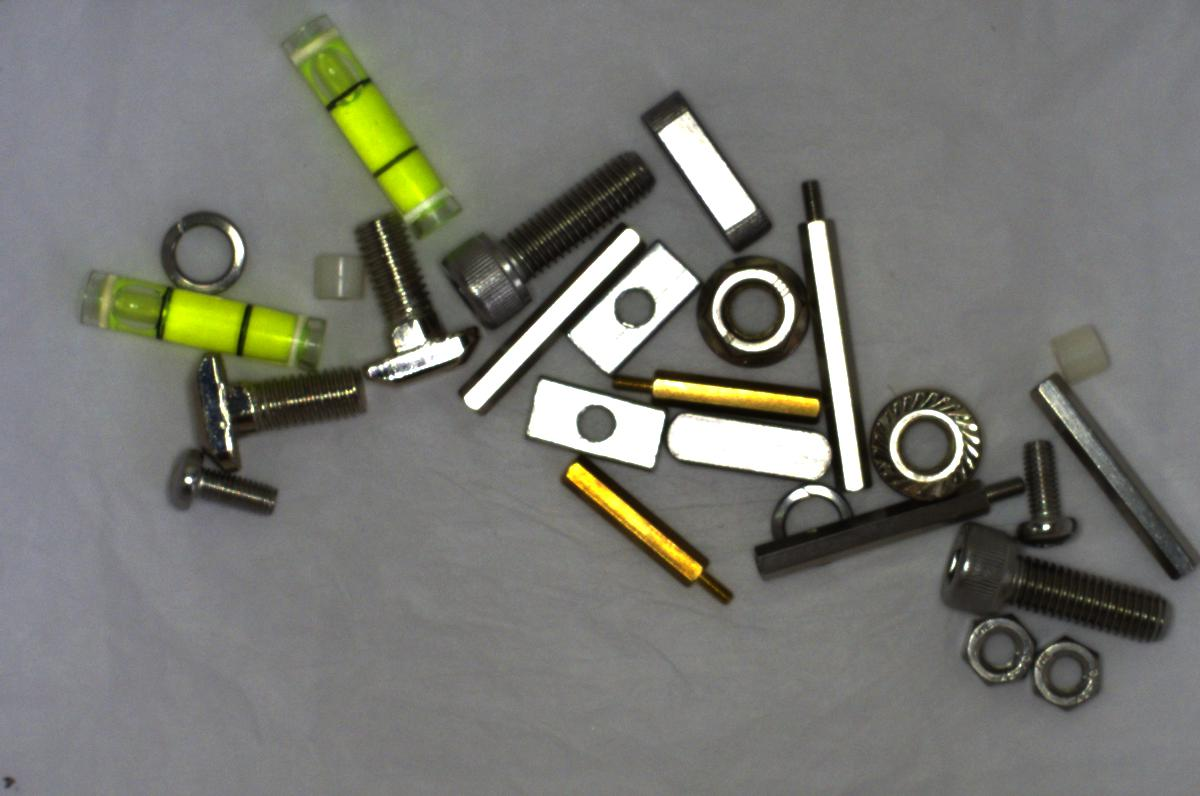Double hexagonal column: (444, 221, 647, 421), (1028, 369, 1197, 586)
Flange nut: (866, 374, 994, 503), (688, 254, 811, 374)
Hexagon nut: (1024, 618, 1129, 721), (942, 613, 1042, 698)
Hexagon pillar: (552, 458, 738, 614), (607, 367, 826, 422)
Hexagon screw: (458, 151, 653, 328), (942, 512, 1180, 645)
Hexagonal steel column: (788, 169, 870, 506)
Horizontal bubble: (275, 12, 465, 236), (71, 272, 323, 367)
Keybar: (638, 90, 769, 245), (655, 404, 833, 483)
Plastic cushion pillar: (1047, 308, 1115, 386), (300, 246, 369, 308)
Rectangular nut: (573, 239, 700, 374), (521, 376, 667, 467)
Round head screw: (155, 444, 283, 524), (1011, 431, 1076, 550)
Spring washer: (150, 203, 251, 292), (762, 482, 851, 564)
T-shaped screw: (166, 346, 375, 476), (348, 212, 493, 395)
